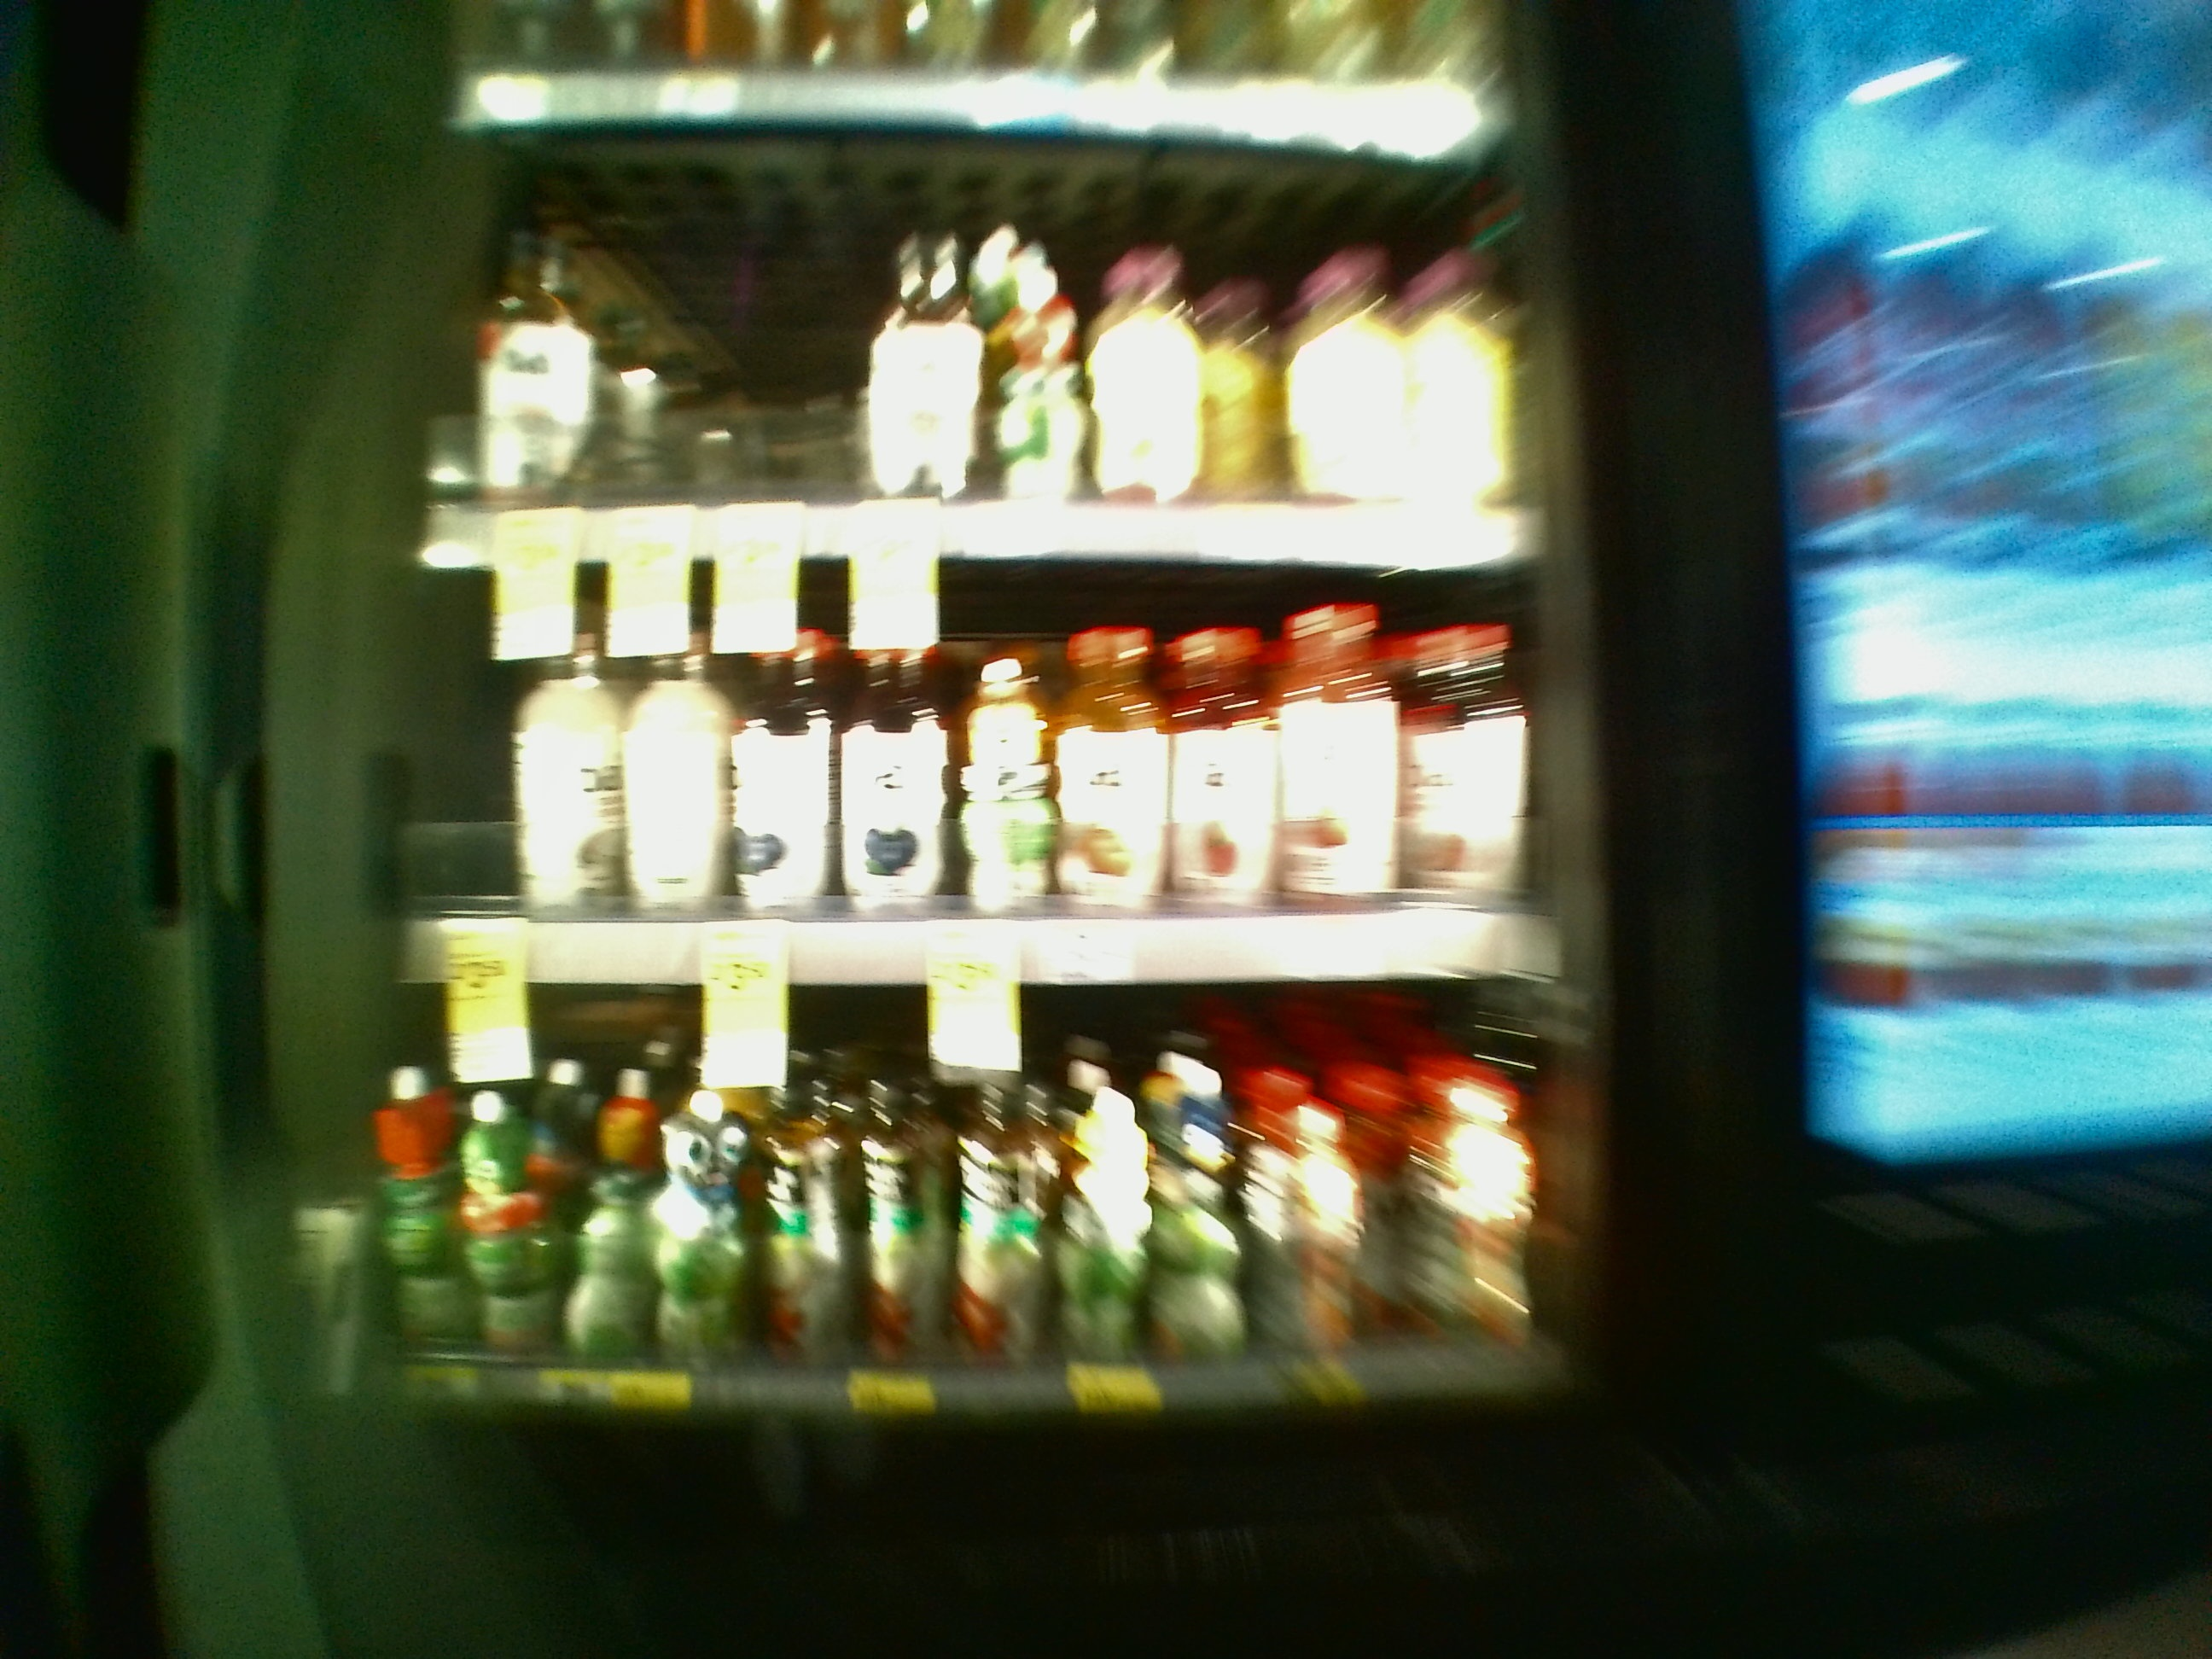shelf: (415, 125, 1536, 566), (364, 993, 1561, 1406), (404, 579, 1548, 985)
